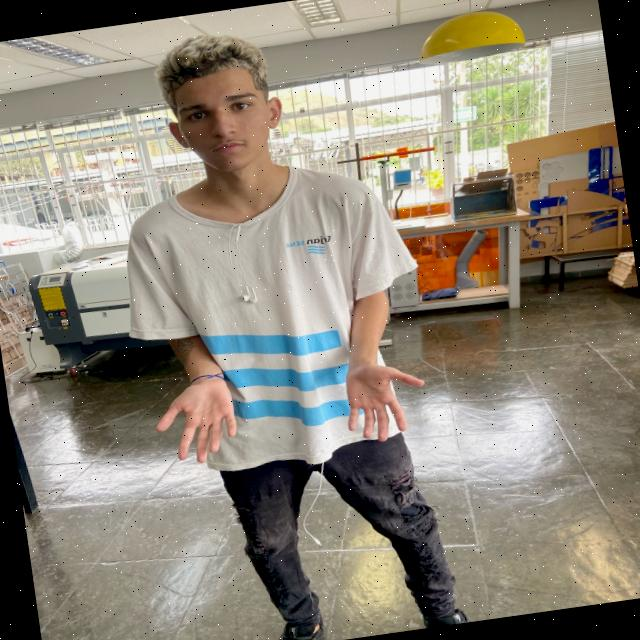SEM LUVA: (153, 377, 240, 466), (340, 364, 427, 444)
